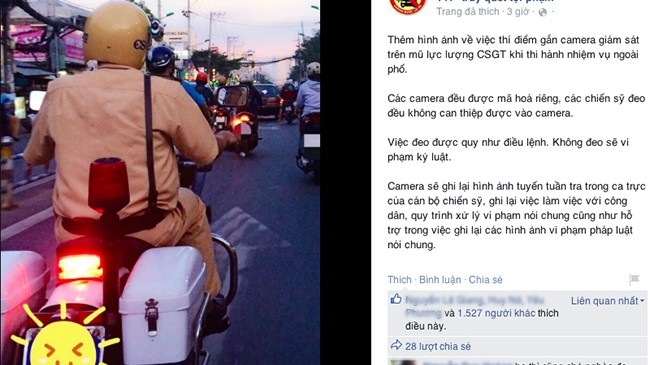police: (20, 1, 244, 336)
